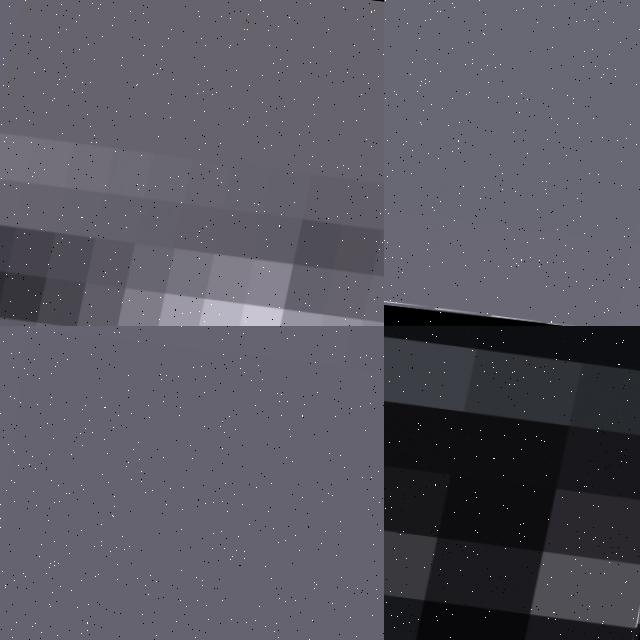0: (0, 0, 384, 326), (384, 0, 640, 326)
drone: (384, 326, 640, 640)
